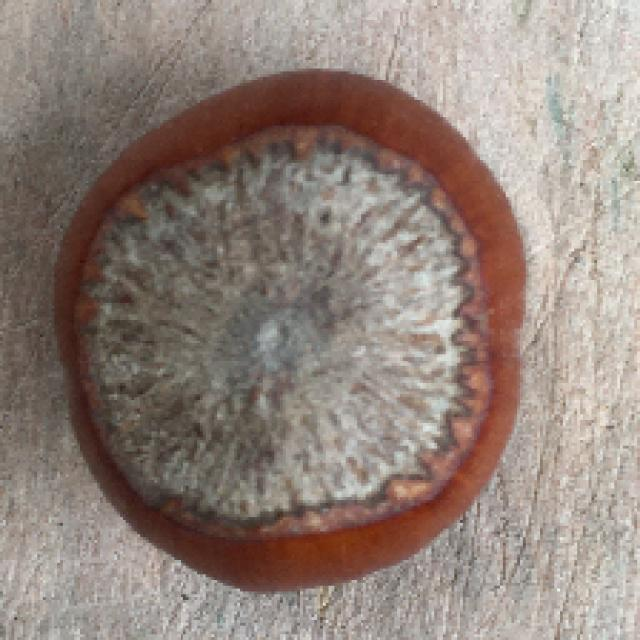qualityHazelnut: (44, 66, 528, 593)
